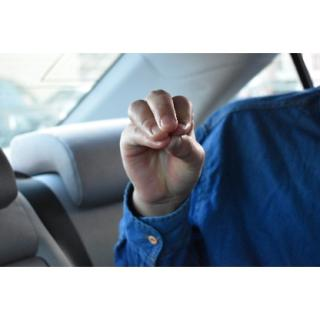HA: (116, 84, 210, 217)
